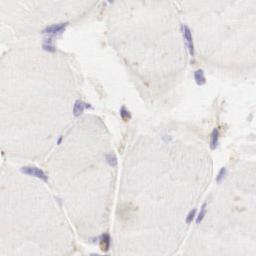nucleus: (18, 165, 48, 182), (181, 25, 194, 55), (42, 22, 67, 35), (196, 201, 208, 224), (42, 35, 56, 53), (105, 150, 118, 168), (194, 70, 207, 85), (73, 99, 84, 116), (210, 129, 219, 149), (186, 207, 196, 224), (216, 168, 227, 183), (88, 236, 99, 244), (84, 101, 94, 109), (120, 106, 127, 115), (102, 234, 110, 240), (57, 135, 62, 144)
positive_cell: (121, 107, 133, 124), (100, 234, 109, 251)
